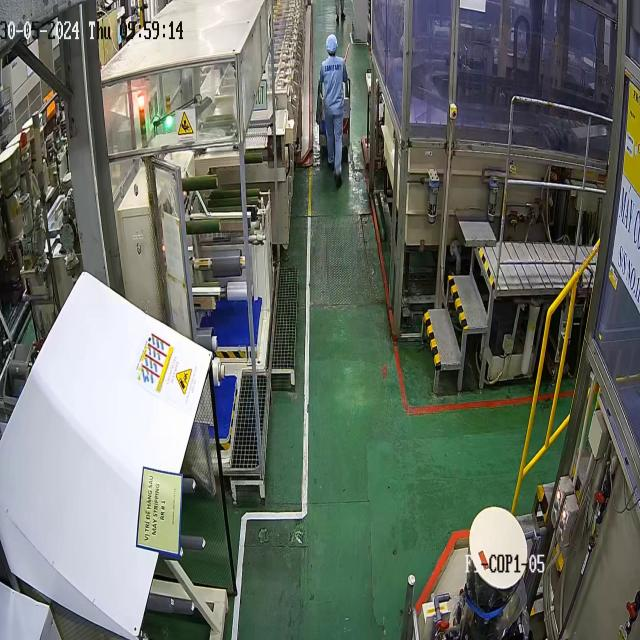Person: (317, 33, 348, 189)
